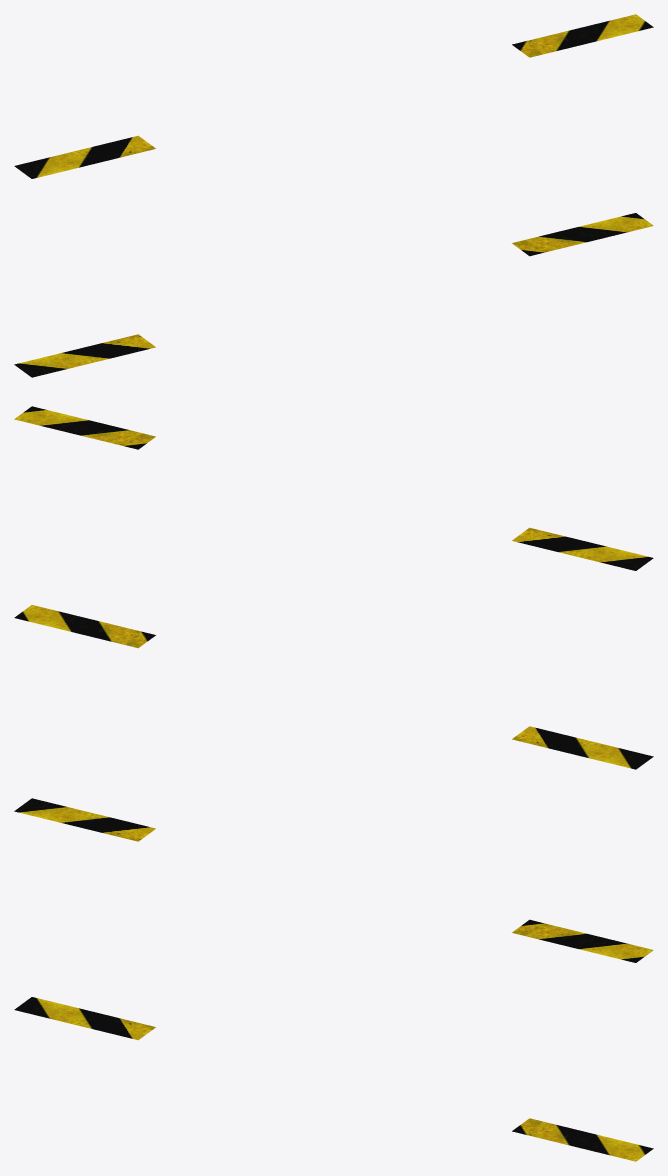
The model's file is machine1_stripes.fbx.
3 renders of one model, top to bottom at view 1: azimuth 30°, elevation 25°; view 2: azimuth 150°, elevation 25°; view 3: azimuth 330°, elevation 25°, orthographic.
Parts seen in each view (by area): view 1: Plane_005; view 2: Plane_005; view 3: Plane_005.
Part boxes in pixels (x1,y1,x2,y2): Plane_005: (14, 14, 653, 377); Plane_005: (14, 406, 653, 769); Plane_005: (14, 798, 653, 1161).
Bounding box in the file's own units: 20 × 6.1 × 1.
Materials: 1 (1 with a texture image).
